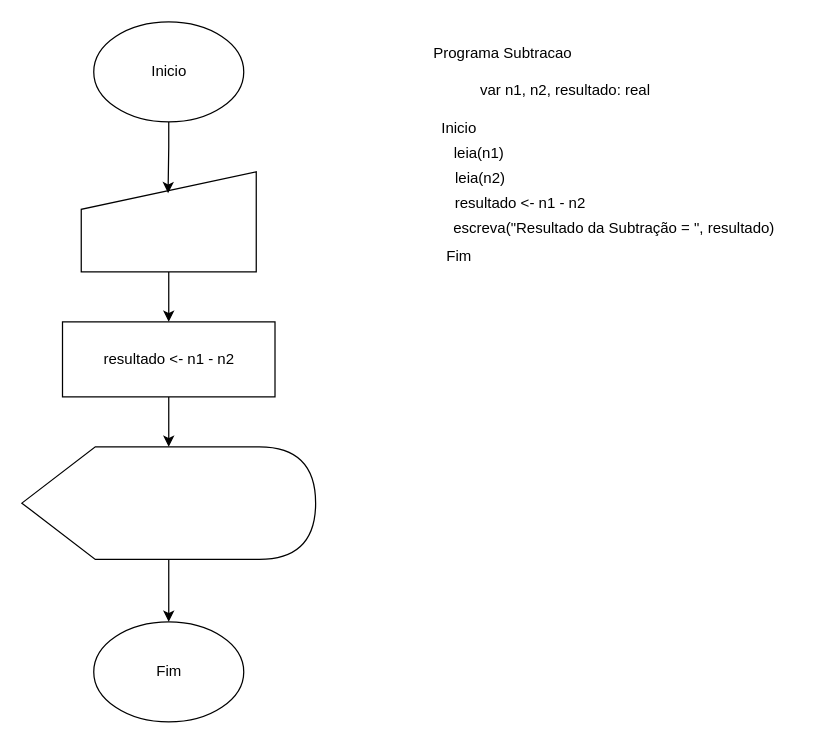
Some shapes in this 818 by 744 pixel diagram are drawn without their labels. The shapes that lost their labels are listed below. From the top down, each one's box as (x1, y1, x2, y2) in pixels, then its label:
(80, 171, 256, 272): n1, n2
(21, 446, 316, 559): "Resultado da Subtração" , resultado
